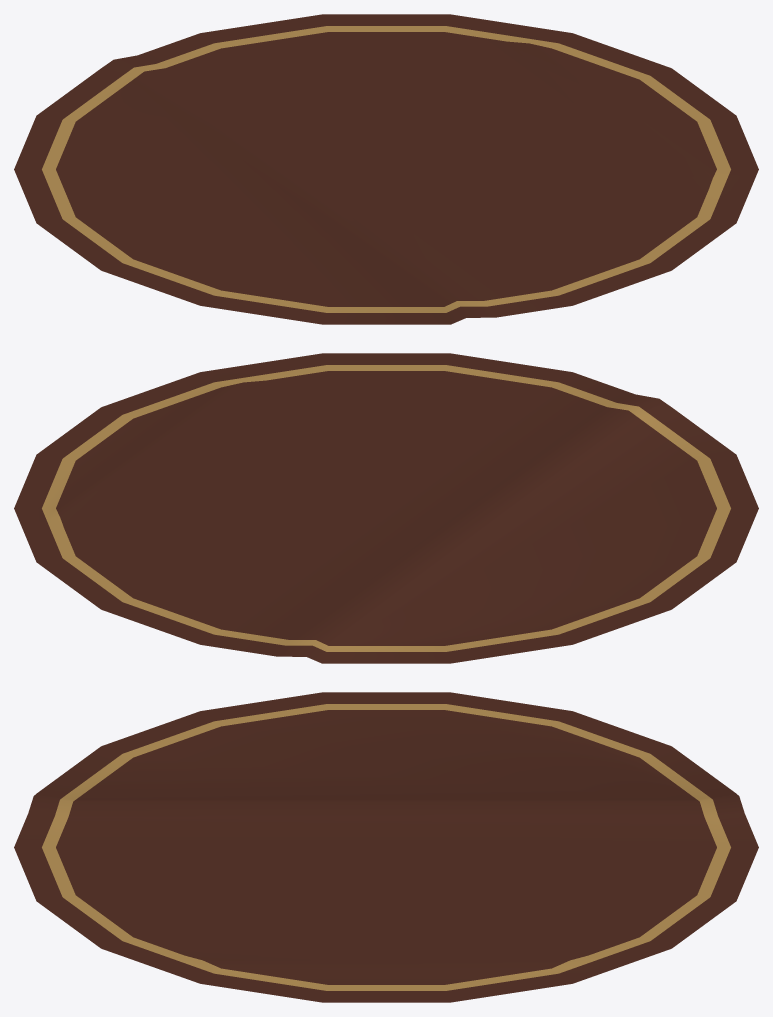
File: Carpet_Round.glb
3 renders of one model, top to bottom at view 1: azimuth 30°, elevation 25°; view 2: azimuth 150°, elevation 25°; view 3: azimuth 270°, elevation 25°, orthographic.
Visible parts, largest first — view 1: Carpet_Round; view 2: Carpet_Round; view 3: Carpet_Round.
Part boxes in pixels (x1,y1,x2,y2): Carpet_Round: [14, 14, 758, 324]; Carpet_Round: [14, 353, 758, 663]; Carpet_Round: [14, 692, 758, 1002].
Size of the model in its own units: 0.7478 by 0.00472 by 0.7594.
